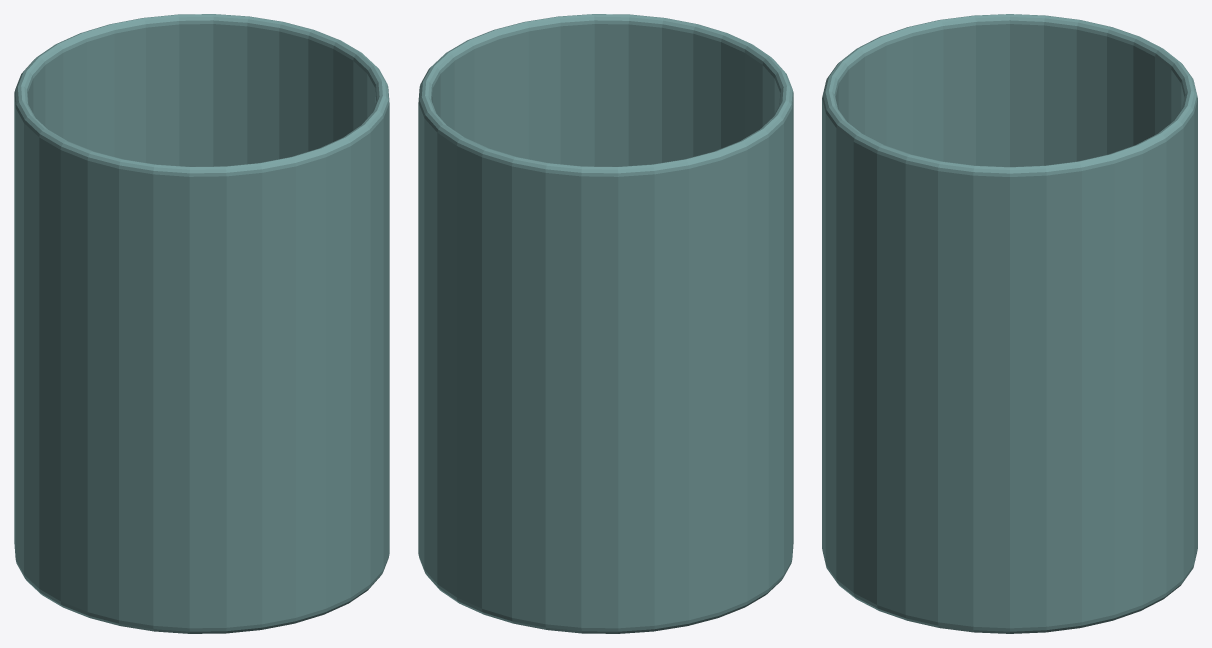
File: 12-oz-glass.obj
3 renders of one model, left to right at view 1: azimuth 30°, elevation 25°; view 2: azimuth 150°, elevation 25°; view 3: azimuth 270°, elevation 25°, orthographic.
Visible parts, largest first — view 1: 12_oz_glass; view 2: 12_oz_glass; view 3: 12_oz_glass.
Boxes of the visible parts, box(x1,y1,x2,y2) form: 12_oz_glass: box(14, 14, 389, 633); 12_oz_glass: box(418, 14, 793, 633); 12_oz_glass: box(822, 14, 1197, 633).
Size of the model in its own units: 0.5268 by 0.7239 by 0.5268.
